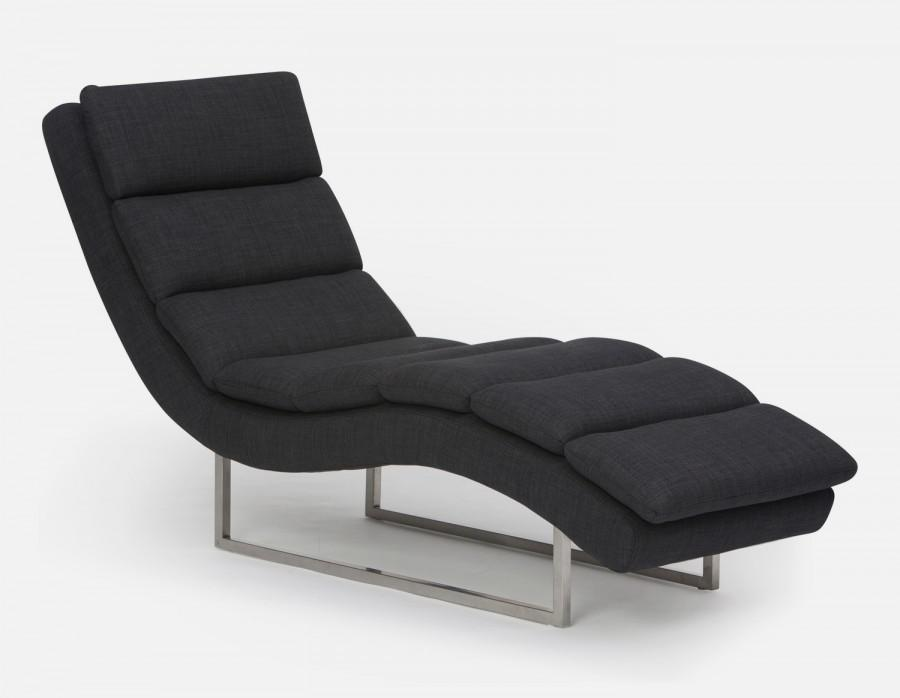chair: (38, 37, 860, 662)
